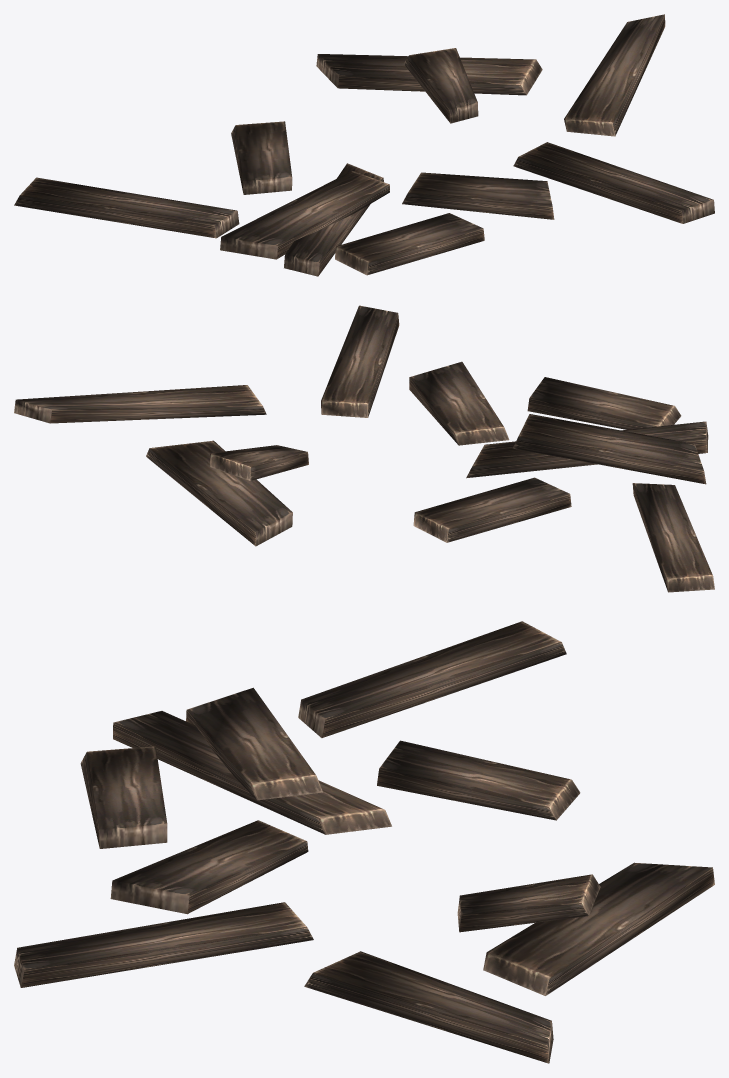
File: darkironwoodplanks02.obj
3 renders of one model, top to bottom at view 1: azimuth 30°, elevation 25°; view 2: azimuth 150°, elevation 25°; view 3: azimuth 270°, elevation 25°, orthographic. The views are drawn at different scales.
Parts seen in each view (by area): view 1: darkironwoodplanks02; view 2: darkironwoodplanks02; view 3: darkironwoodplanks02.
Part boxes in pixels (x1,y1,x2,y2): darkironwoodplanks02: (14,14,714,276); darkironwoodplanks02: (14,305,714,592); darkironwoodplanks02: (14,621,714,1063).
Bounding box in the file's own units: 12.42 × 0.5947 × 8.21.
